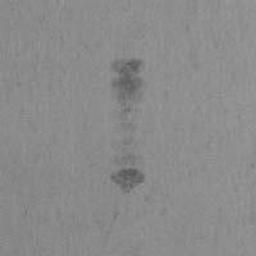Oil spot: (108, 55, 147, 198)
